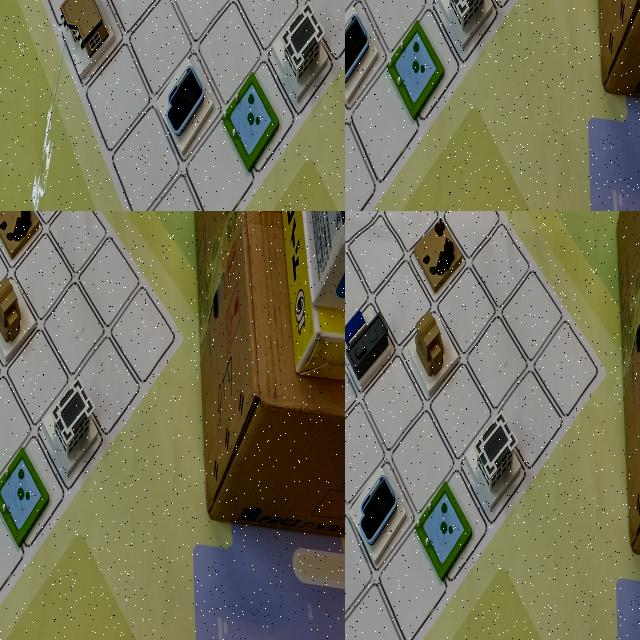bus_stop: (357, 21, 414, 126), (345, 294, 396, 398), (0, 55, 38, 166), (0, 273, 23, 355)
factory: (345, 237, 378, 327), (345, 0, 375, 57)
fish_pool: (414, 474, 473, 586)
forest: (38, 64, 97, 162), (355, 211, 410, 255), (0, 344, 22, 428), (345, 0, 378, 48)
gogo_shop: (345, 460, 406, 571), (345, 28, 370, 136), (0, 0, 25, 71), (0, 297, 20, 368)
research_build: (465, 410, 532, 520)
restaurant: (345, 389, 376, 498), (0, 0, 52, 56), (0, 357, 20, 434)
silicate_rock: (407, 212, 469, 295), (345, 142, 374, 211), (0, 67, 19, 156), (0, 211, 23, 279)
volunteer_center: (398, 292, 462, 410), (288, 76, 340, 202)
wet_land: (314, 28, 345, 108), (390, 211, 446, 250), (345, 0, 374, 48)
